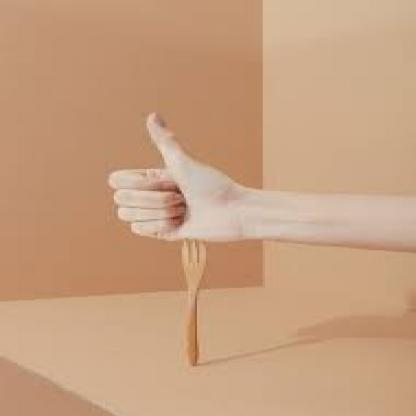thumb_up: (104, 108, 234, 248)
